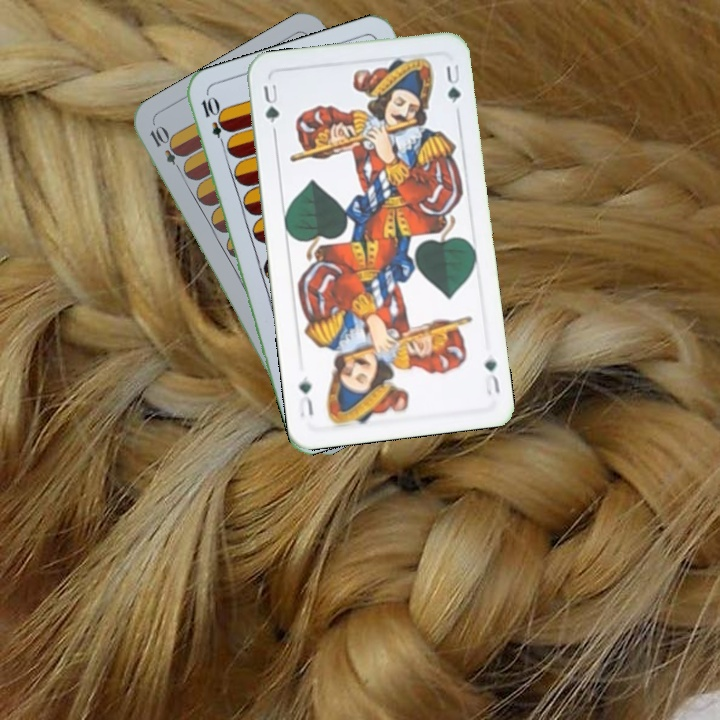E10: (145, 122, 187, 177), (197, 93, 230, 151)
GU: (259, 78, 282, 126), (480, 354, 503, 398)
